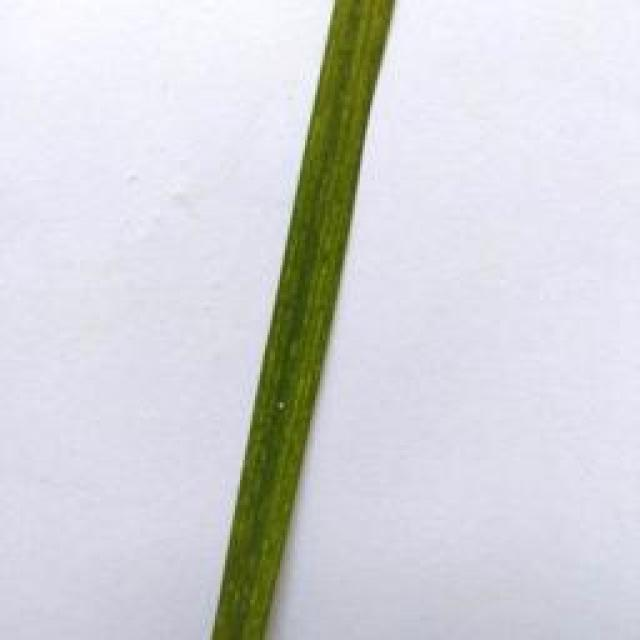Healthy-Plant: (208, 0, 399, 640)
